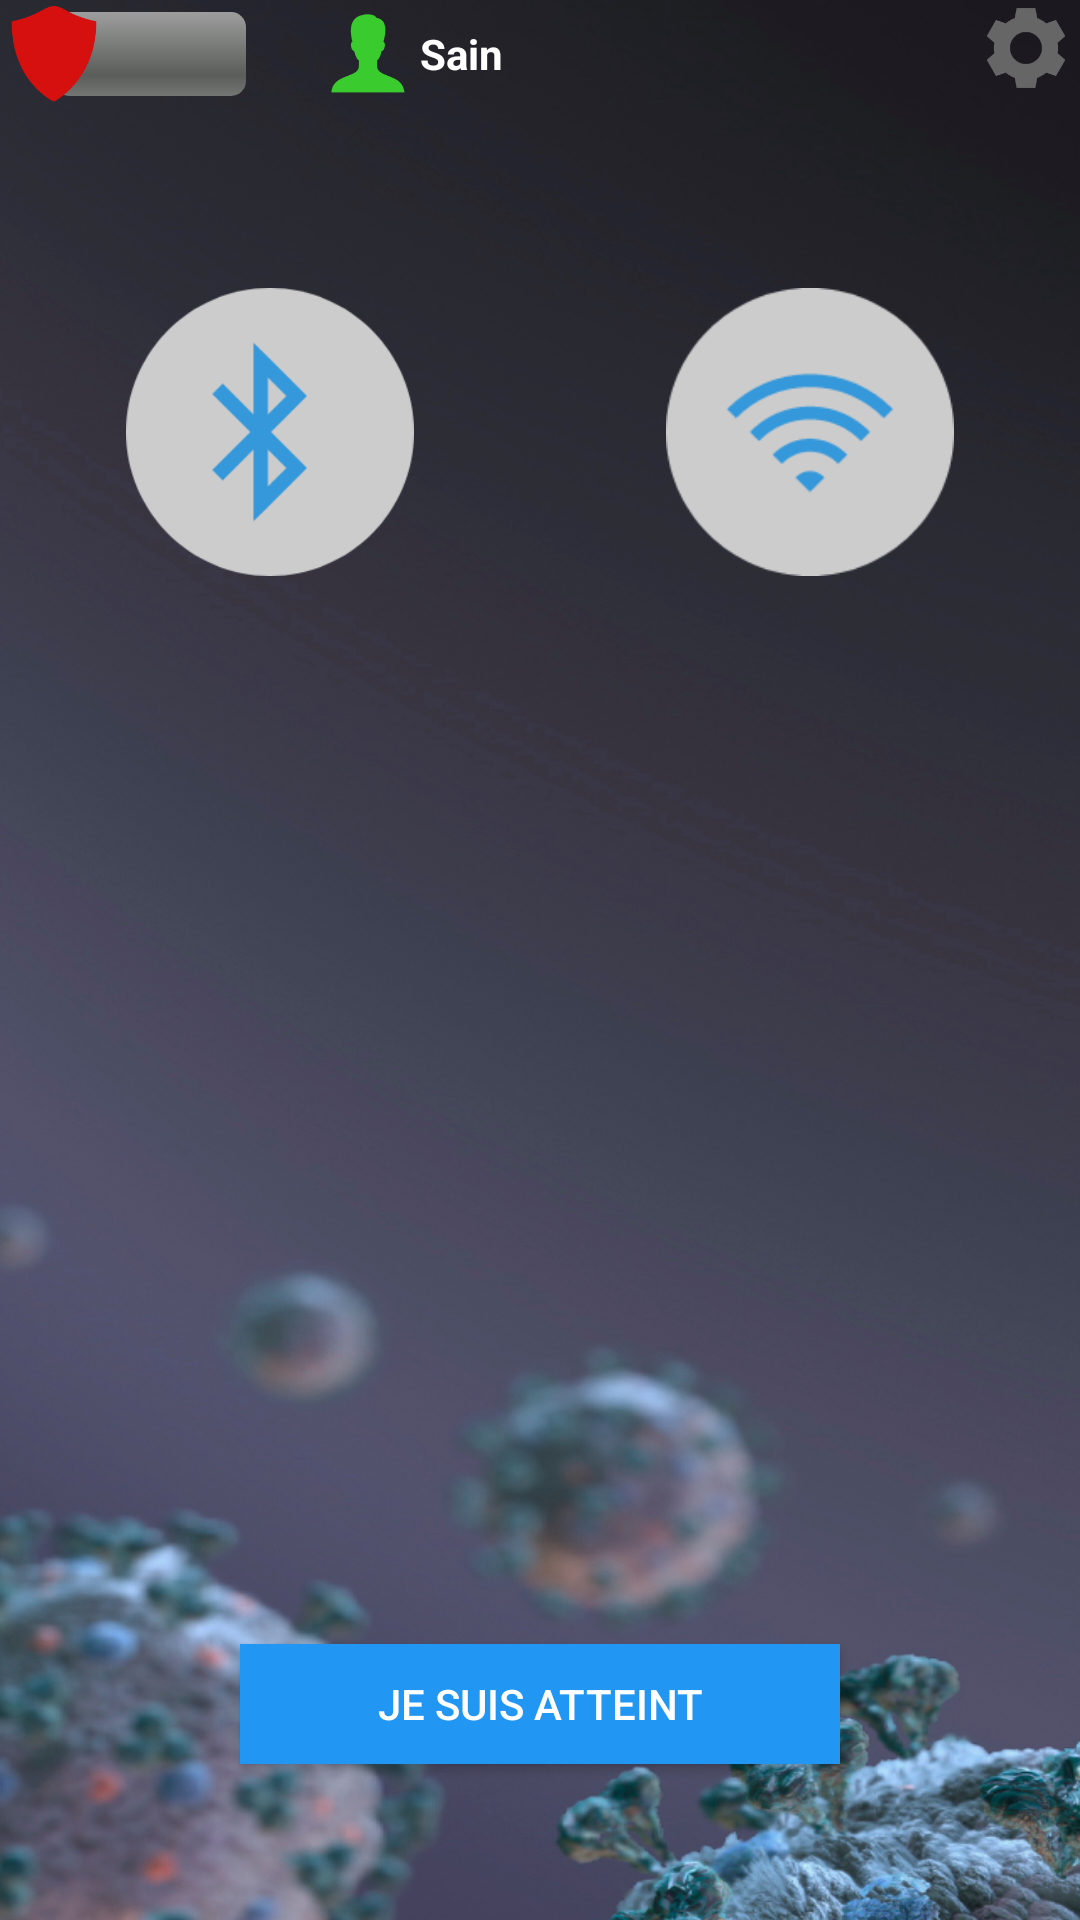

Where icons sit on this 1080w x 1920h app screen, as box(x1, y1, x2, y2):
settings: box(987, 8, 1065, 88)
shield: box(11, 6, 102, 102)
user: box(331, 14, 405, 93)
wifi circle: box(666, 288, 954, 576)
